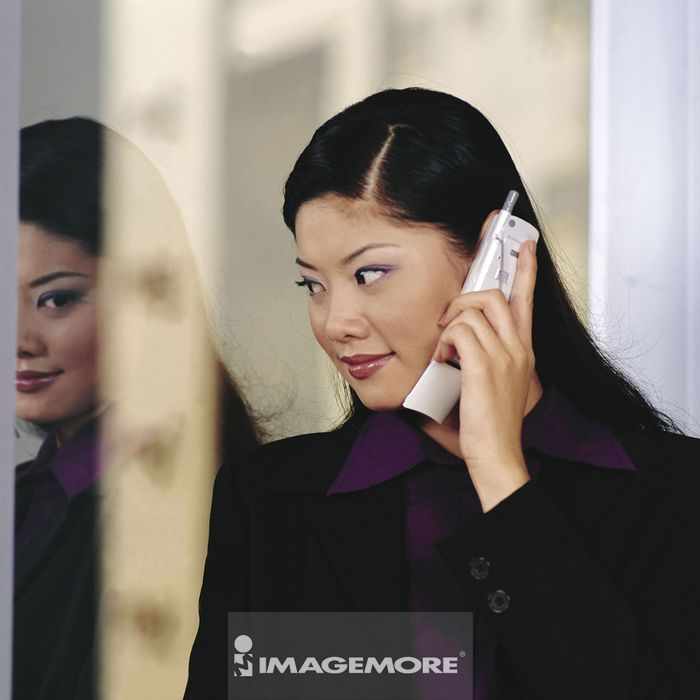talk: (291, 216, 548, 482)
